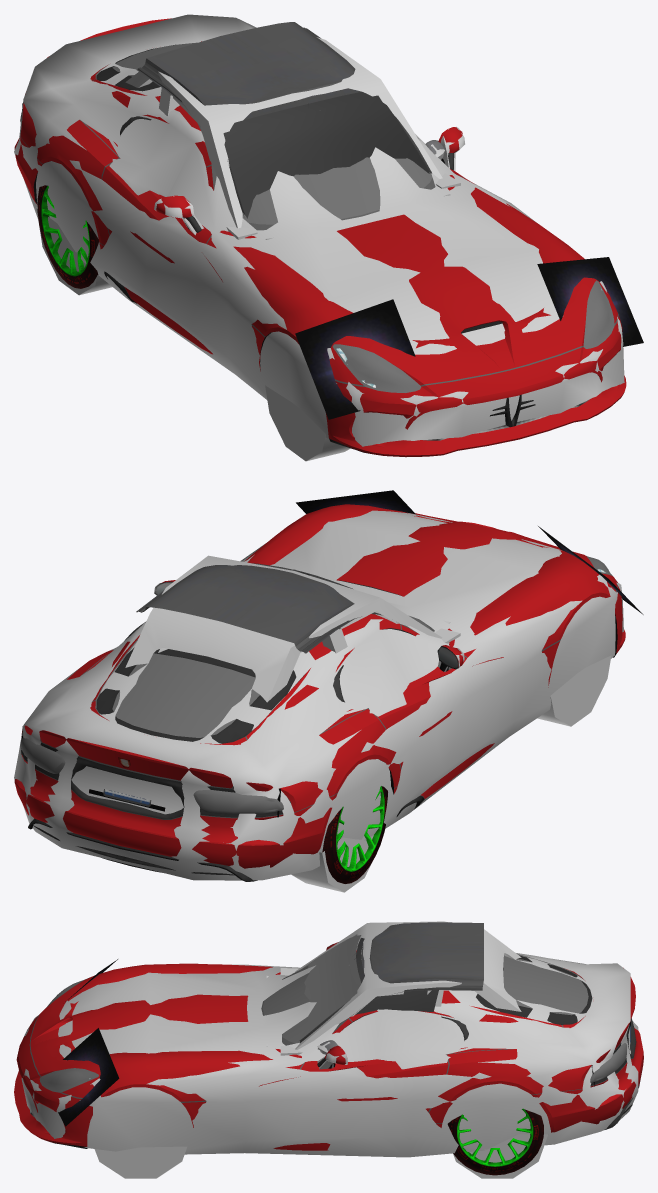
File: P_car-018_Piper.fbx
3 renders of one model, top to bottom at view 1: azimuth 30°, elevation 25°; view 2: azimuth 150°, elevation 25°; view 3: azimuth 270°, elevation 25°, orthographic. The views are drawn at different scales.
Parts seen in each view (by area): view 1: M_Car-018_ShadowForm_Piper_01, M_Car-018_Body_Piper_01, M_Car-Interior_Details_01, M_Car-Interior_Glass_01, M_Car-018_Glass_Piper_01, M_Car-018_FrontFlares_Piper_01, M_Car-Interior_Shadowform_01, M_Car-018_Details_Piper_01, M_CarWheel_003_AP_01, M_CaTire_003_AP_01; view 2: M_Car-018_ShadowForm_Piper_01, M_Car-018_Body_Piper_01, M_Car-018_Glass_Piper_01, M_Car-Interior_Shadowform_01, M_Car-Interior_Details_01, M_Car-018_Details_Piper_01, M_Car-018_FrontFlares_Piper_01, M_CarWheel_003_AP_01, M_CaTire_003_AP_02, M_CaTire_003_AP_01; view 3: M_Car-018_ShadowForm_Piper_01, M_Car-018_Body_Piper_01, M_Car-Interior_Details_01, M_Car-018_Glass_Piper_01, M_Car-Interior_Shadowform_01, M_Car-Interior_Glass_01, M_Car-018_Details_Piper_01, M_Car-018_FrontFlares_Piper_01, M_CarWheel_003_AP_01, M_CaTire_003_AP_02, M_CaTire_003_AP_01.
Boxes of the visible parts, x1,y1,x2,y2 form: M_Car-018_ShadowForm_Piper_01: [14, 14, 624, 461]; M_Car-018_Body_Piper_01: [14, 18, 626, 457]; M_Car-Interior_Details_01: [136, 22, 444, 215]; M_Car-Interior_Glass_01: [223, 91, 429, 218]; M_Car-018_Glass_Piper_01: [20, 42, 614, 392]; M_Car-018_FrontFlares_Piper_01: [295, 257, 643, 419]; M_Car-Interior_Shadowform_01: [125, 37, 460, 239]; M_Car-018_Details_Piper_01: [20, 44, 618, 453]; M_CarWheel_003_AP_01: [37, 185, 98, 288]; M_CaTire_003_AP_01: [41, 186, 72, 274]; M_Car-018_ShadowForm_Piper_01: [14, 510, 623, 892]; M_Car-018_Body_Piper_01: [14, 504, 625, 868]; M_Car-018_Glass_Piper_01: [20, 556, 612, 813]; M_Car-Interior_Shadowform_01: [125, 555, 460, 702]; M_Car-Interior_Details_01: [136, 563, 382, 653]; M_Car-018_Details_Piper_01: [21, 580, 617, 881]; M_Car-018_FrontFlares_Piper_01: [296, 490, 643, 614]; M_CarWheel_003_AP_01: [322, 786, 387, 883]; M_CaTire_003_AP_02: [357, 786, 384, 863]; M_CaTire_003_AP_01: [336, 806, 364, 871]; M_Car-018_ShadowForm_Piper_01: [21, 944, 638, 1178]; M_Car-018_Body_Piper_01: [14, 942, 643, 1150]; M_Car-Interior_Details_01: [299, 922, 483, 1050]; M_Car-018_Glass_Piper_01: [39, 956, 626, 1092]; M_Car-Interior_Shadowform_01: [266, 921, 521, 1055]; M_Car-Interior_Glass_01: [298, 935, 439, 1040]; M_Car-018_Details_Piper_01: [29, 954, 642, 1148]; M_Car-018_FrontFlares_Piper_01: [58, 959, 119, 1126]; M_CarWheel_003_AP_01: [447, 1109, 543, 1175]; M_CaTire_003_AP_02: [497, 1108, 533, 1165]; M_CaTire_003_AP_01: [457, 1114, 502, 1166].
Size of the model in its own units: 2.03 by 1.38 by 4.46.
